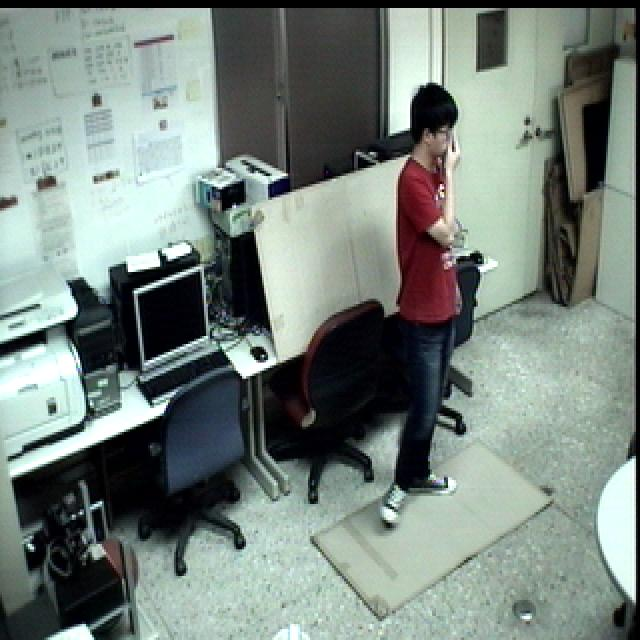stand: (367, 82, 471, 538)
